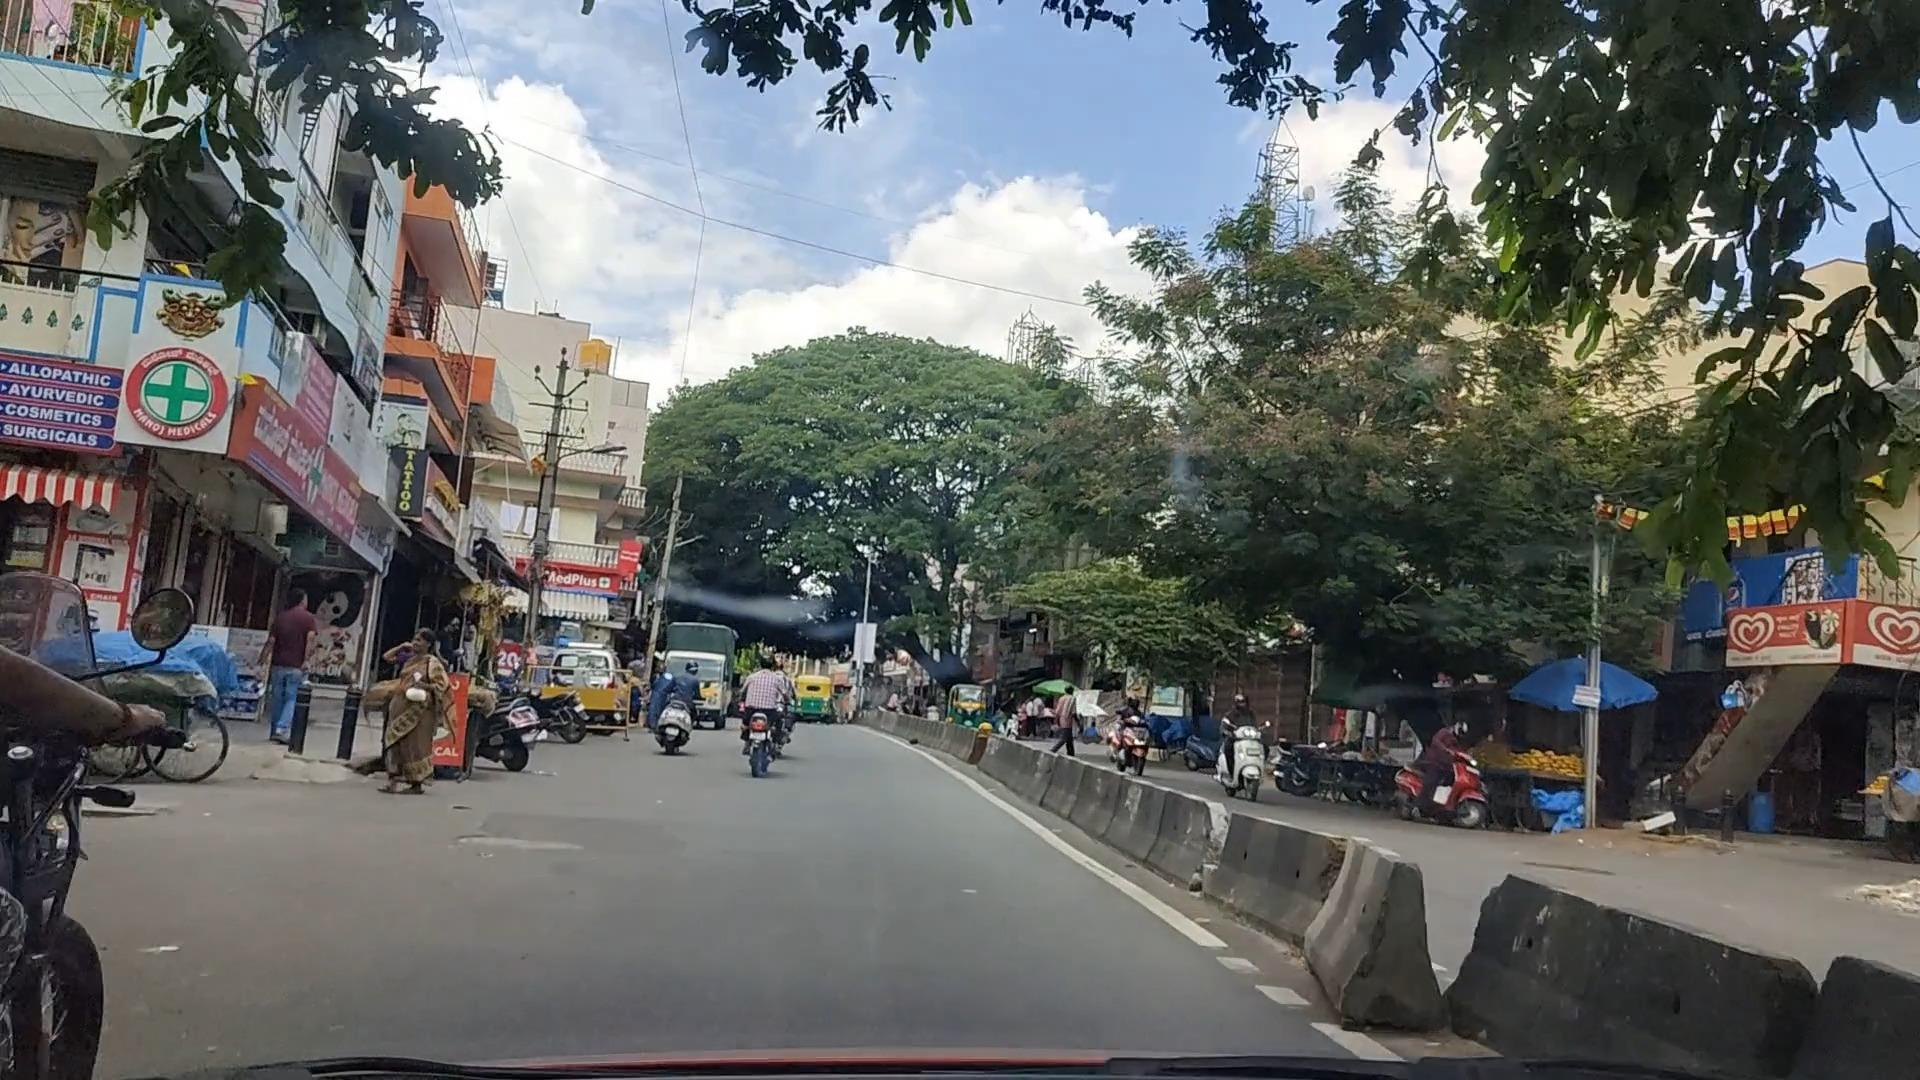RoadDamages: (418, 813, 609, 884)
